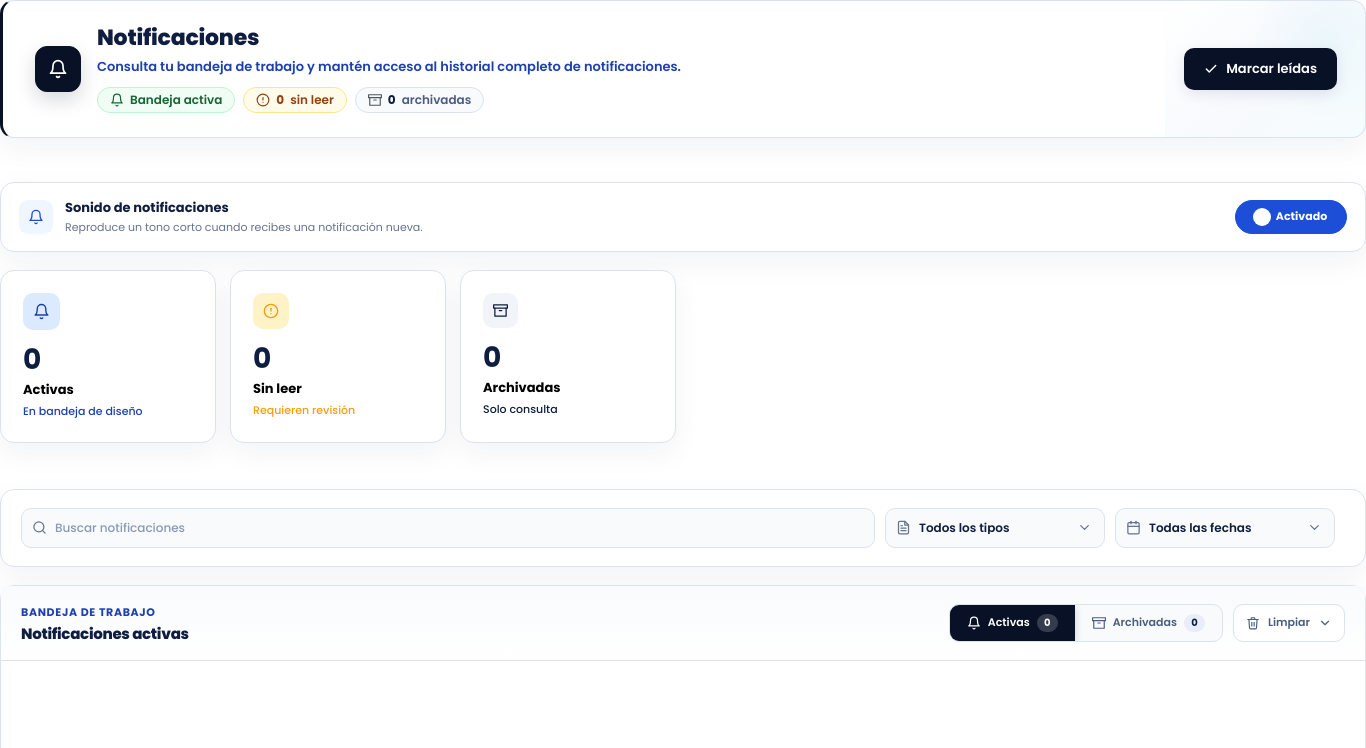
Scenario: DesignerNotificationsModule › shows empty states for active and archived tabs
What coordinates should you click on to do the following:
click the button "Archivadas 0"
I would click on:
 (1148, 623)
Its box is [1075, 605, 1222, 641].
(page scrolled)
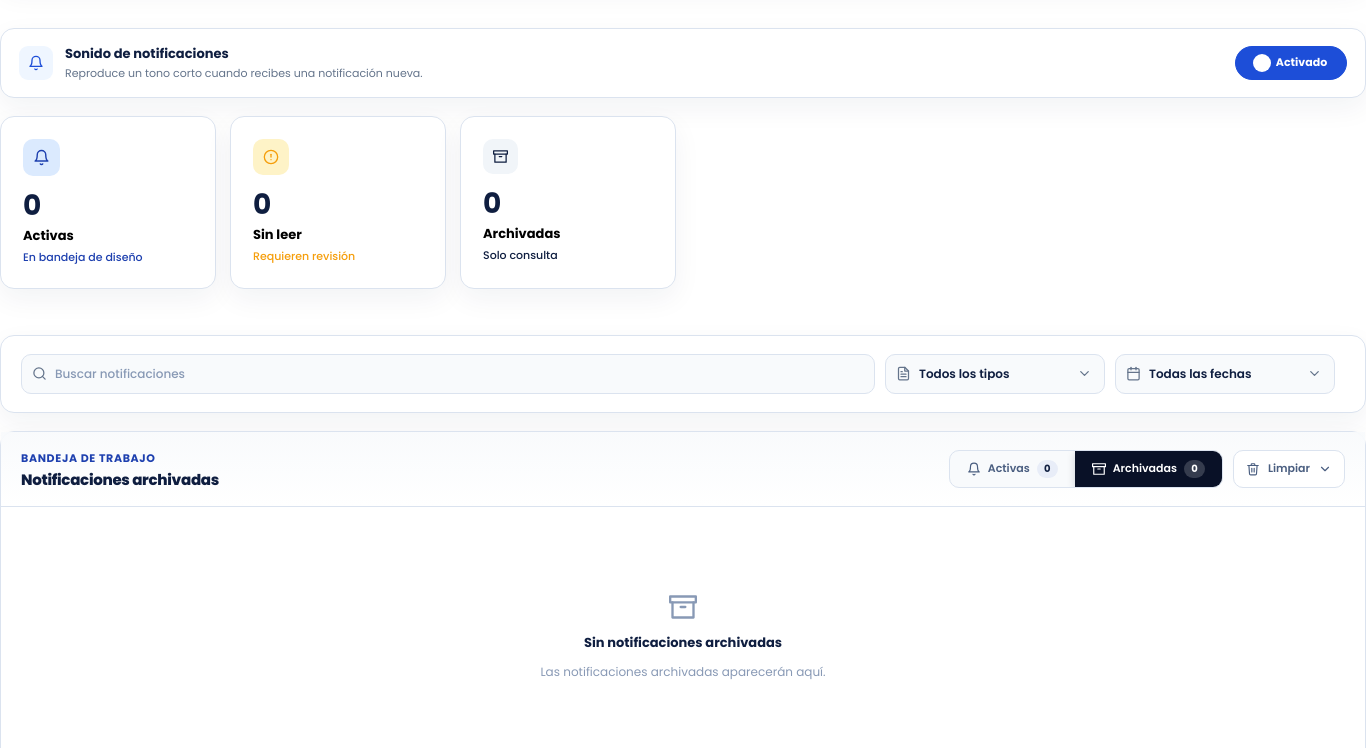
expect the text "Sin notificaciones archivadas" is shown: met, box [584, 633, 782, 652]
